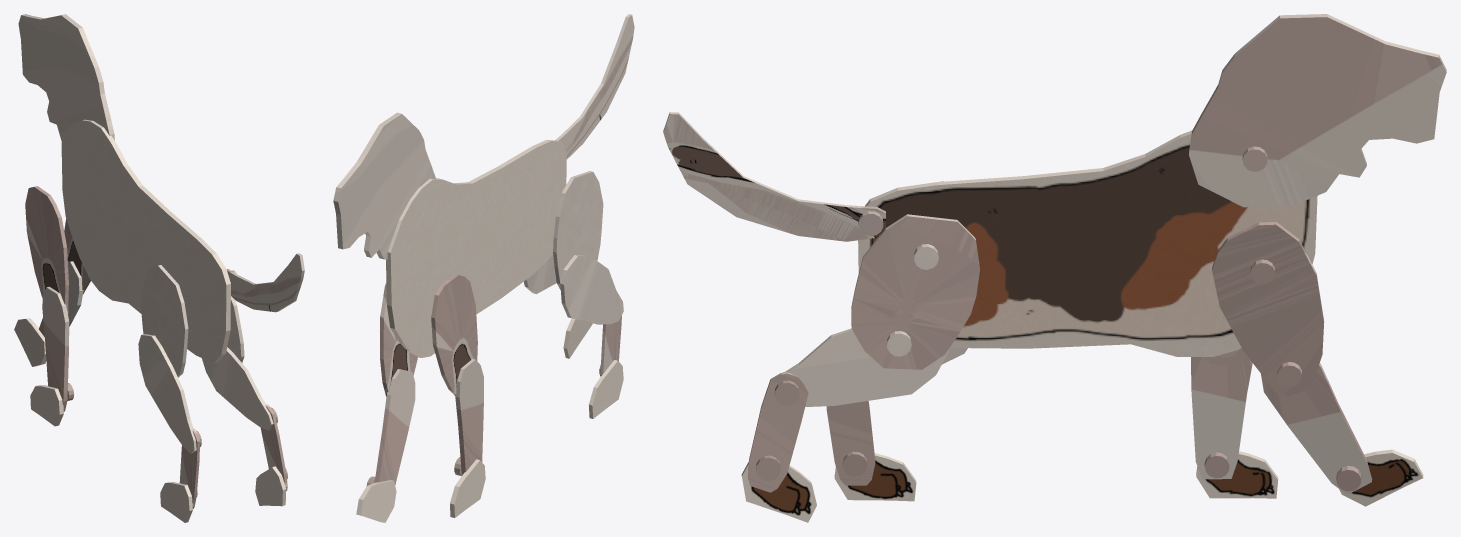
File: DogRight.fbx
3 renders of one model, left to right at view 1: azimuth 30°, elevation 25°; view 2: azimuth 150°, elevation 25°; view 3: azimuth 270°, elevation 25°, orthographic. The views are drawn at different scales.
Visible parts, largest first — view 1: MainBody, Head, Circle.009, Circle.006, B2, B2.001, F2, Tail, F3, F3.003, F3.001, F3.002 (+5 smaller); view 2: MainBody, Head, Circle.009, Circle.006, B2, F2.001, Tail, F2, Circle.001, F3.003, F3, F3.001 (+3 smaller); view 3: MainBody, Head, Circle.002, Circle.001, Tail, B2.001, F2.001, F2, B3.001, B3, F3, F3.003 (+2 smaller).
Boxes of the visible parts, x1=… form: MainBody: x1=61, y1=119, x2=230, y2=363; Head: x1=18, y1=14, x2=114, y2=140; Circle.009: x1=25, y1=186, x2=68, y2=313; Circle.006: x1=141, y1=265, x2=188, y2=377; B2: x1=138, y1=334, x2=196, y2=453; B2.001: x1=202, y1=347, x2=273, y2=430; F2: x1=42, y1=286, x2=74, y2=411; Tail: x1=226, y1=253, x2=304, y2=312; F3: x1=30, y1=385, x2=63, y2=426; F3.003: x1=14, y1=318, x2=46, y2=366; F3.001: x1=160, y1=482, x2=192, y2=522; F3.002: x1=255, y1=466, x2=286, y2=506; MainBody: x1=386, y1=140, x2=566, y2=357; Head: x1=333, y1=112, x2=435, y2=259; Circle.009: x1=431, y1=274, x2=477, y2=395; Circle.006: x1=553, y1=171, x2=603, y2=289; B2: x1=560, y1=255, x2=623, y2=324; F2.001: x1=366, y1=369, x2=415, y2=485; Tail: x1=555, y1=14, x2=634, y2=159; F2: x1=454, y1=359, x2=483, y2=475; Circle.001: x1=380, y1=283, x2=417, y2=396; F3.003: x1=356, y1=480, x2=396, y2=522; F3: x1=450, y1=459, x2=485, y2=517; F3.001: x1=589, y1=360, x2=623, y2=418; MainBody: x1=858, y1=130, x2=1317, y2=356; Head: x1=1189, y1=14, x2=1446, y2=207; Circle.002: x1=851, y1=214, x2=979, y2=369; Circle.001: x1=1212, y1=222, x2=1324, y2=396; Tail: x1=663, y1=112, x2=885, y2=241; B2.001: x1=785, y1=328, x2=949, y2=406; F2.001: x1=1261, y1=363, x2=1372, y2=494; F2: x1=1191, y1=357, x2=1252, y2=479; B3.001: x1=747, y1=371, x2=808, y2=492; B3: x1=826, y1=401, x2=875, y2=485; F3: x1=1196, y1=451, x2=1278, y2=498; F3.003: x1=1339, y1=449, x2=1423, y2=506.
Bounding box in the file's own units: 17.85 × 89.43 × 123.
